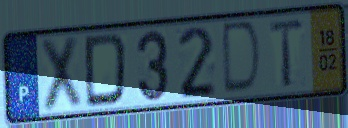2: (176, 24, 219, 102)
3: (134, 28, 171, 103)
D: (83, 30, 130, 110), (221, 18, 264, 97)
T: (267, 16, 307, 91)
X: (38, 33, 84, 115)
